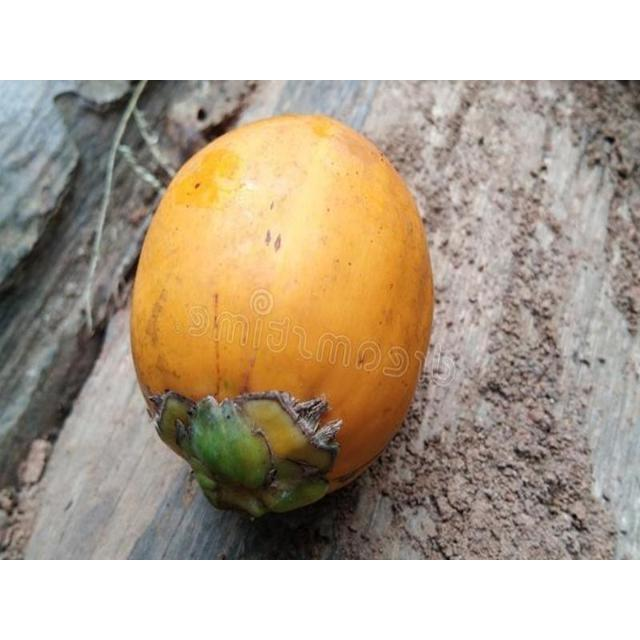good: (130, 114, 435, 519)
